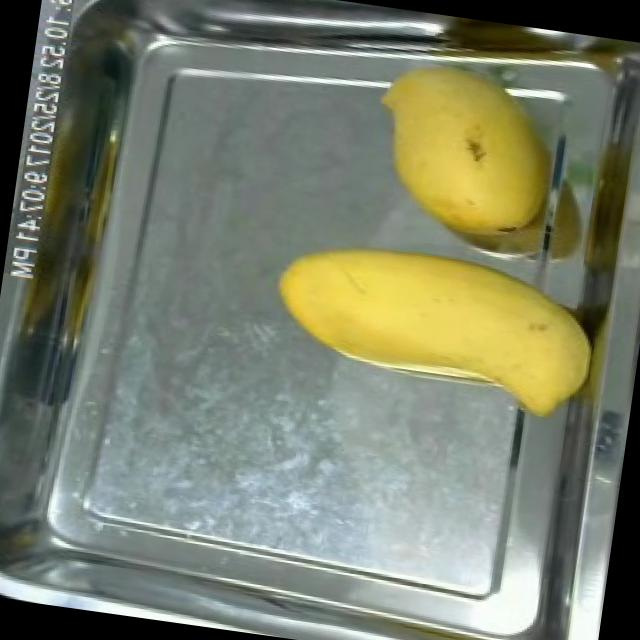fruit: (257, 221, 613, 421), (363, 41, 579, 256)
